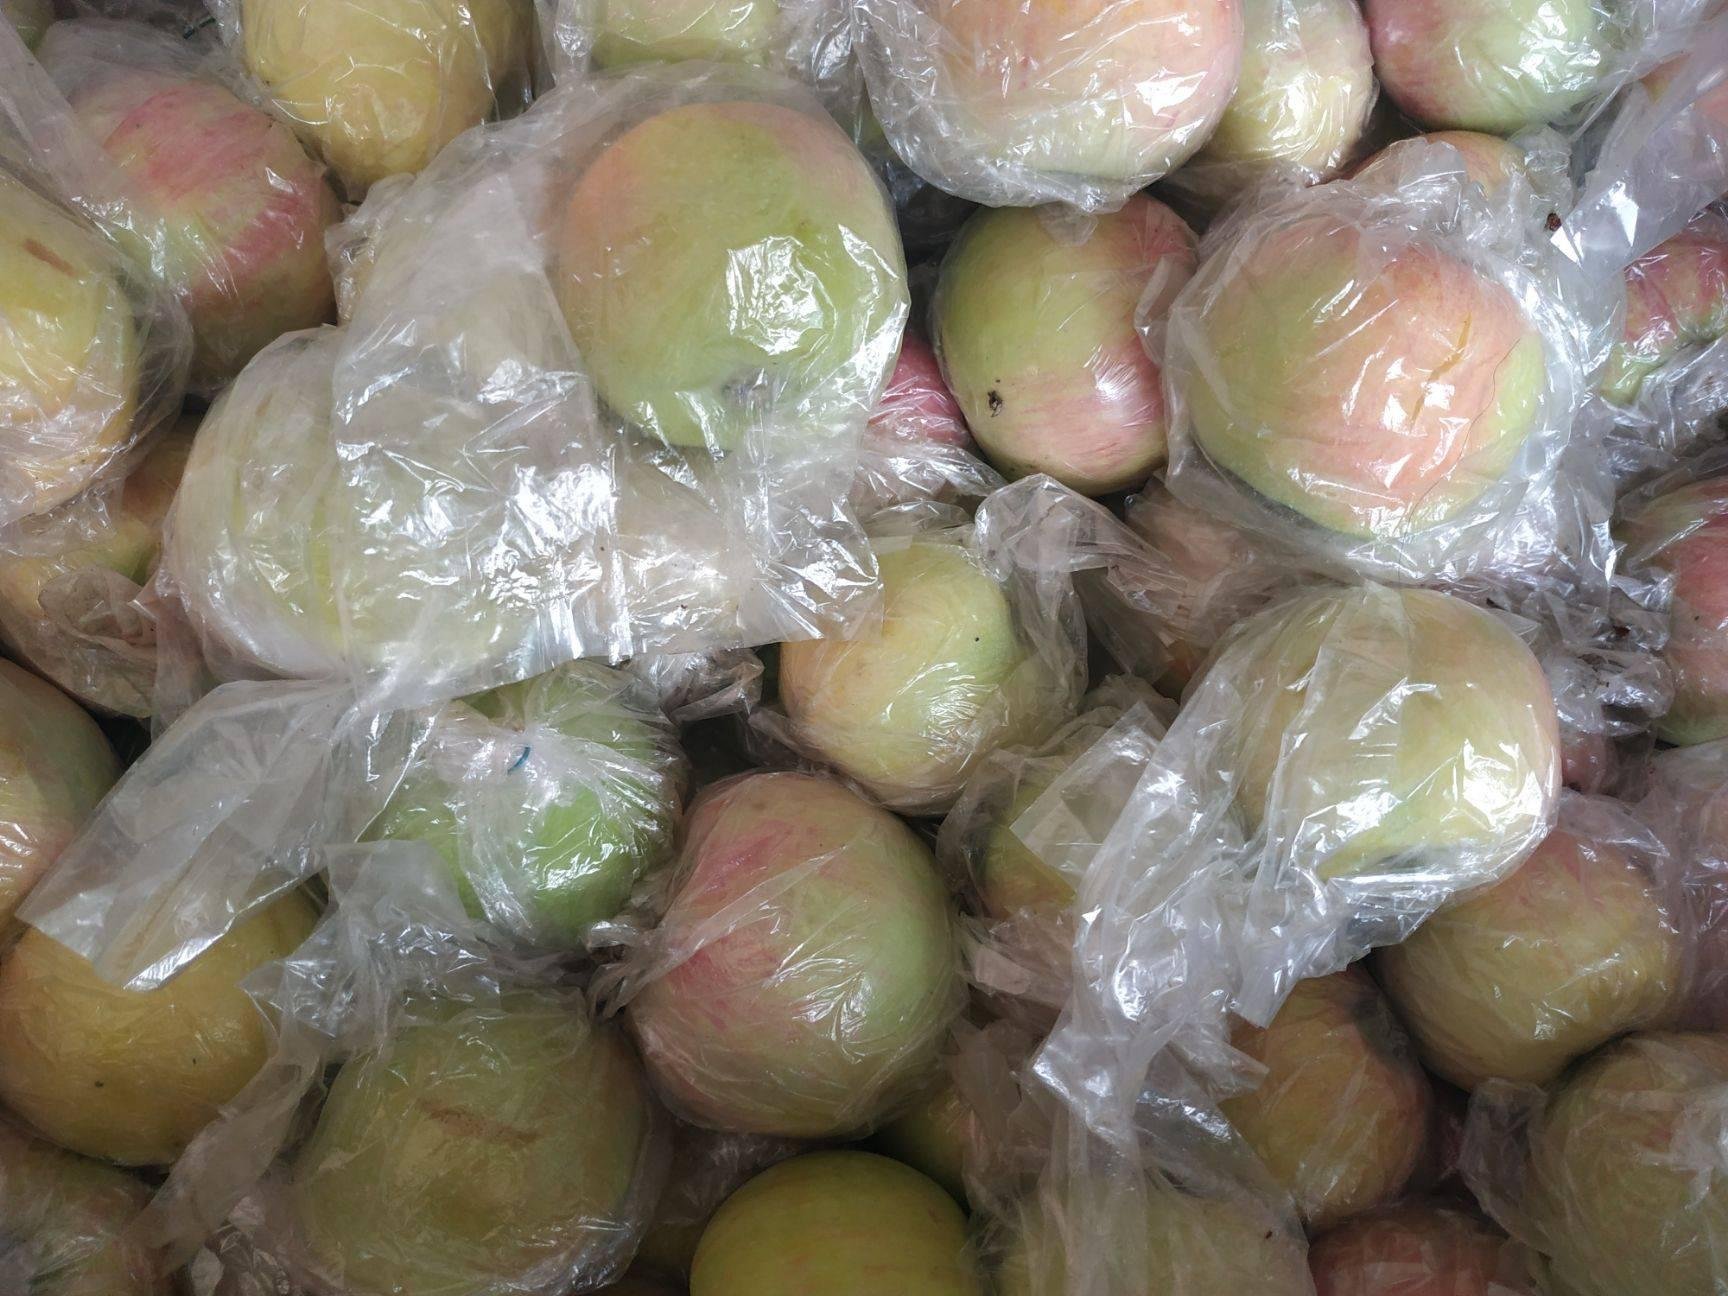apple: (552, 90, 913, 441), (1180, 201, 1550, 538), (629, 777, 961, 1135), (31, 38, 337, 403), (5, 860, 328, 1169), (1225, 589, 1557, 875), (773, 525, 1075, 803), (929, 188, 1191, 500), (1359, 1, 1659, 135)
